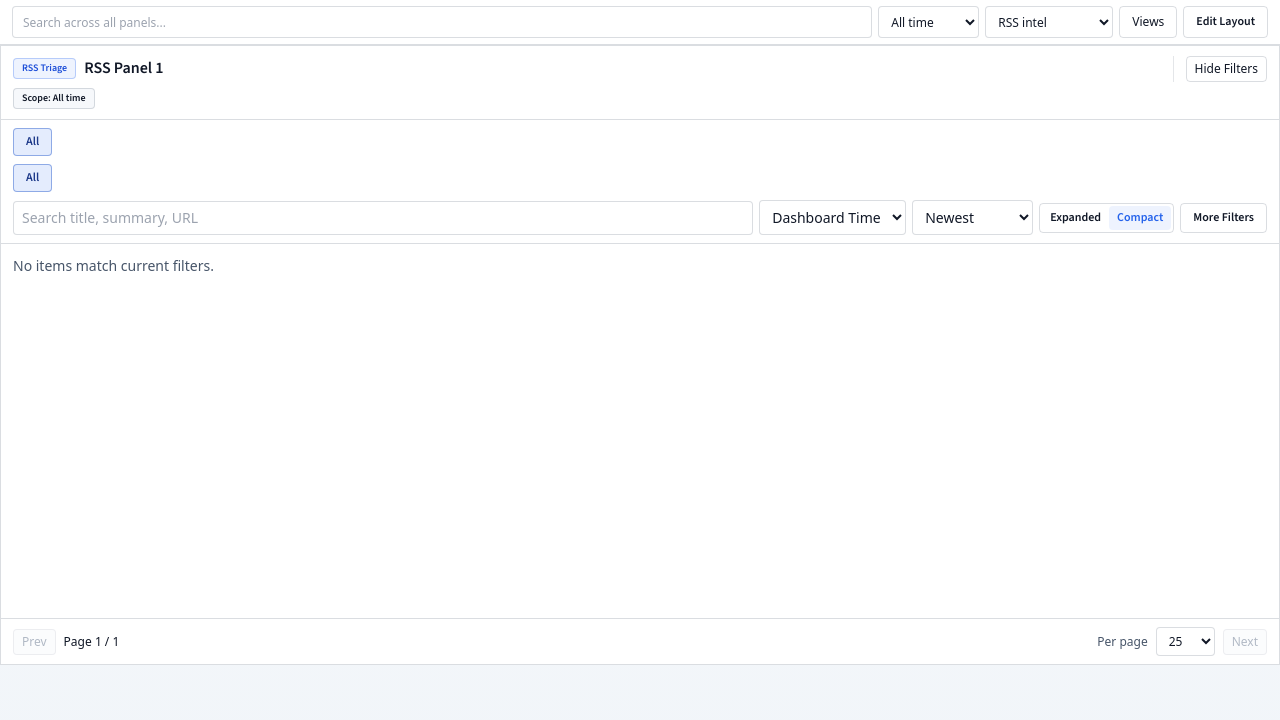
Scenario: DashboardPage DOM workflows › allows a personal copy of a read-only shared view and hides destructive actions
The width and height of the screenshot is (1280, 720).
Select "RSS intel" in the dropdown named "Load saved dashboard view" at (1049, 22), box [985, 6, 1113, 38]
Click the button "Edit Layout" at (1226, 22), box [1183, 6, 1268, 38]
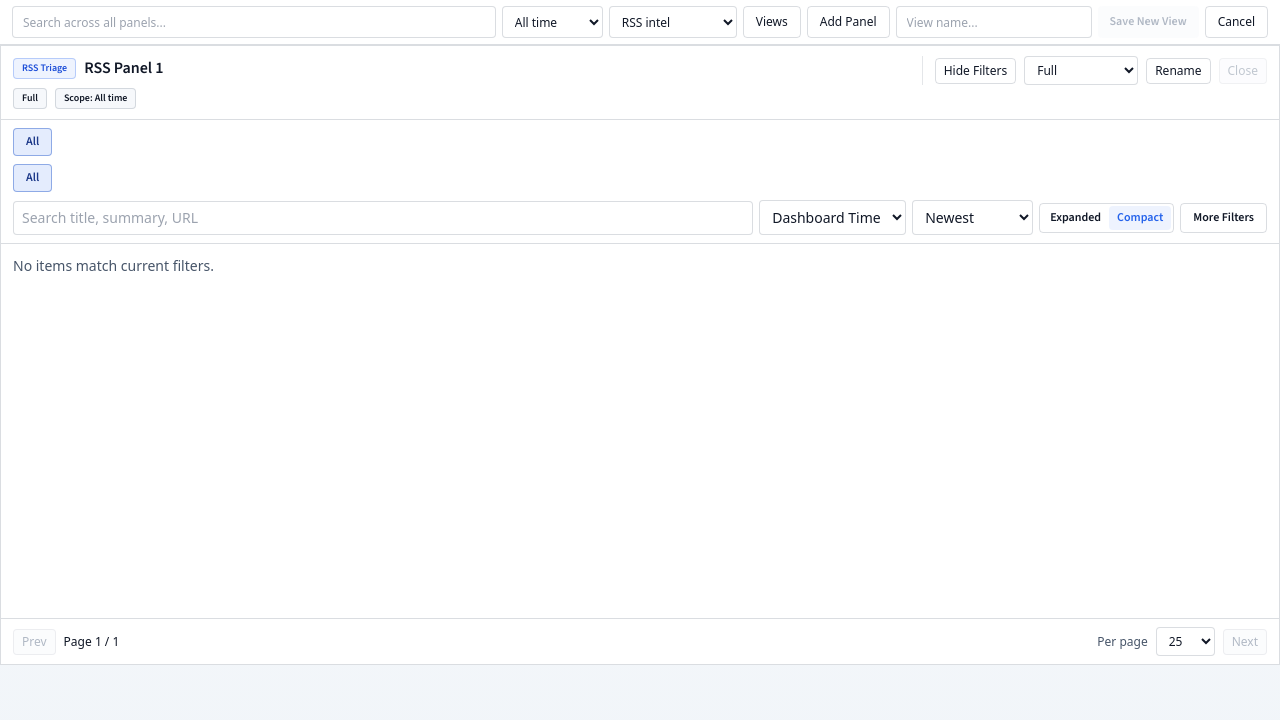
Expected: the button "Save New View" is shown, [1098, 6, 1199, 38]
Click the button "Views" at (772, 22), box [743, 6, 801, 38]
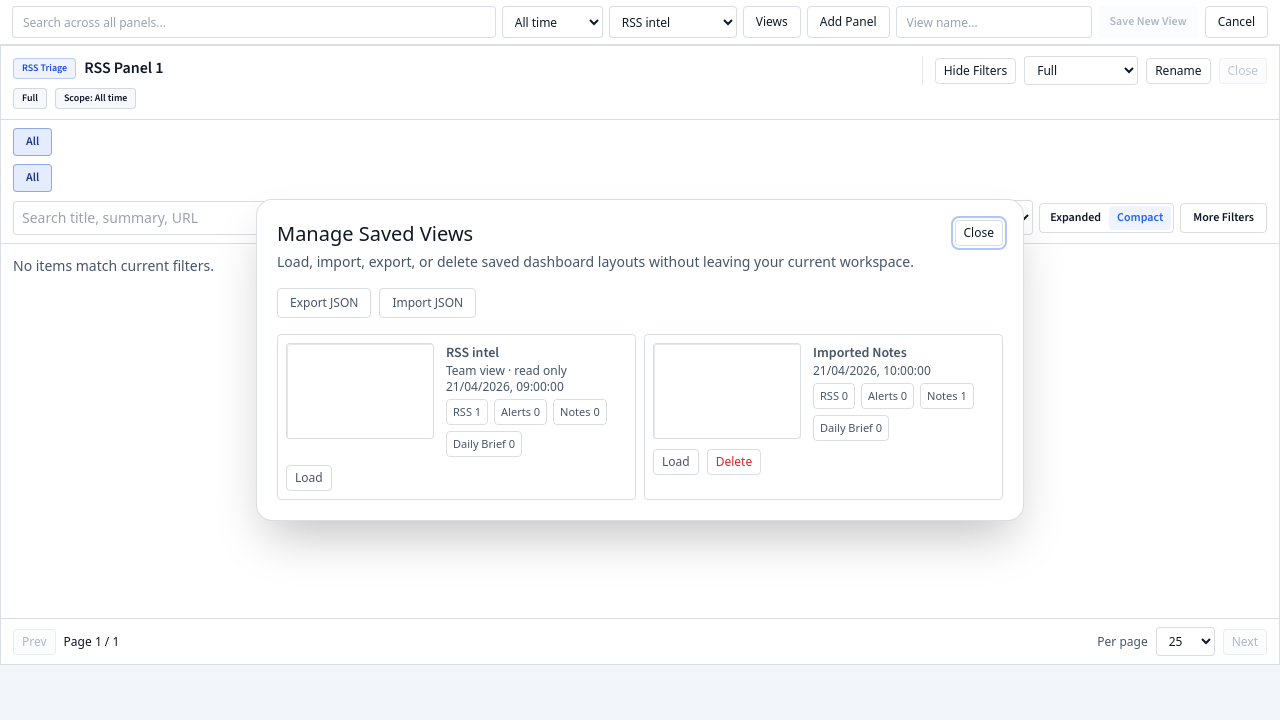
Expected: the text "Team view · read only" is shown, [446, 362, 567, 379]
